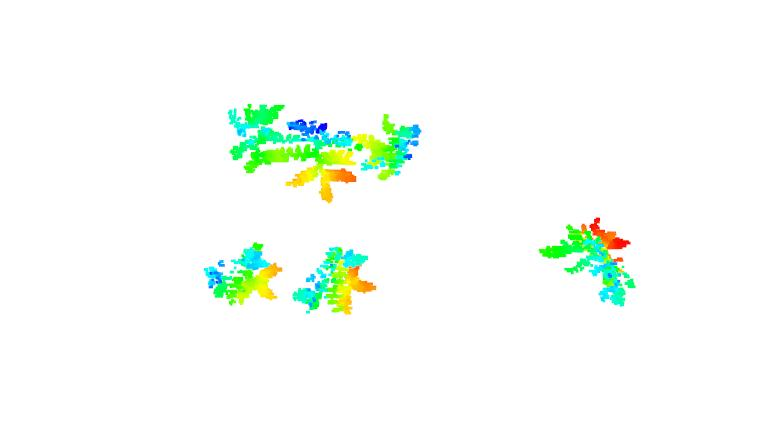chickpea: (535, 217, 639, 308), (289, 243, 379, 318), (285, 116, 358, 203), (203, 239, 287, 309), (223, 100, 292, 177), (354, 113, 422, 181)
